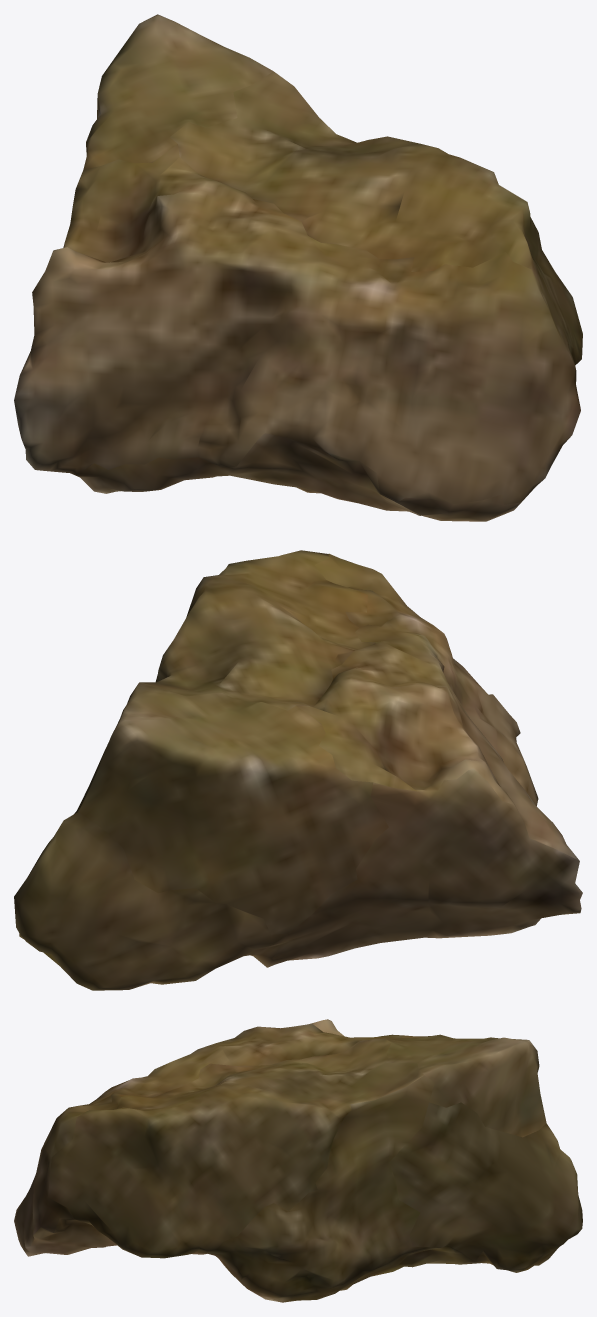
The picture shows the model from 3 angles, top to bottom: view 1: azimuth 30°, elevation 25°; view 2: azimuth 150°, elevation 25°; view 3: azimuth 270°, elevation 25°; orthographic projection. The views are drawn at different scales.
Parts seen in each view (by area): view 1: rock_moss_set_01__f_lod1; view 2: rock_moss_set_01__f_lod1; view 3: rock_moss_set_01__f_lod1.
Boxes of the visible parts, x1,y1,x2,y2 form: rock_moss_set_01__f_lod1: (14,14,582,521); rock_moss_set_01__f_lod1: (14,550,582,990); rock_moss_set_01__f_lod1: (14,1019,582,1302).
Size of the model in its own units: 2.12 by 1.25 by 2.76.
1 material, 1 textured.
